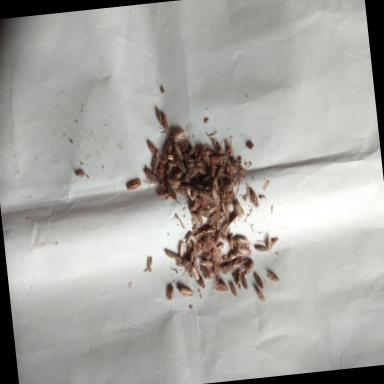pbw: (191, 264, 205, 288), (231, 152, 245, 176), (253, 281, 267, 303), (143, 166, 159, 184), (266, 232, 280, 252), (249, 188, 261, 210), (192, 186, 210, 200), (162, 150, 180, 164), (233, 198, 244, 220), (215, 160, 226, 182), (160, 110, 171, 132), (178, 283, 194, 298), (253, 270, 265, 290), (146, 138, 160, 155), (174, 156, 187, 174), (153, 104, 164, 125), (166, 183, 178, 202), (210, 185, 222, 204), (126, 179, 145, 191), (226, 278, 238, 297), (198, 264, 212, 280), (235, 234, 251, 248), (220, 259, 234, 275), (152, 153, 163, 173), (212, 138, 224, 156), (186, 246, 196, 267), (166, 173, 180, 188), (237, 245, 253, 258), (244, 260, 256, 277), (208, 162, 219, 180), (254, 240, 268, 254), (172, 142, 184, 158), (186, 166, 202, 178), (164, 284, 176, 300), (211, 255, 221, 274), (206, 178, 219, 192), (199, 256, 214, 268), (198, 142, 209, 158), (226, 164, 237, 180), (164, 138, 174, 155), (145, 255, 155, 272), (202, 151, 212, 168), (267, 270, 280, 283), (188, 200, 202, 212), (196, 168, 210, 180), (232, 254, 246, 266), (214, 280, 228, 292), (172, 127, 186, 139), (184, 152, 195, 167), (233, 270, 243, 286), (181, 138, 191, 154), (202, 234, 212, 250), (213, 152, 226, 164), (198, 203, 210, 216), (226, 139, 234, 158), (199, 250, 214, 260), (184, 229, 194, 244), (167, 158, 179, 170), (204, 225, 216, 237), (158, 188, 170, 200), (158, 172, 166, 190), (220, 200, 228, 218), (176, 258, 190, 268), (182, 172, 192, 186), (184, 186, 194, 200), (206, 240, 216, 254), (242, 269, 249, 289), (192, 228, 204, 239), (210, 212, 220, 225), (173, 168, 186, 178), (212, 229, 223, 240), (209, 202, 221, 212), (228, 213, 238, 225), (196, 181, 208, 191), (191, 213, 201, 224), (179, 242, 186, 257), (228, 250, 238, 260), (192, 157, 203, 166), (216, 240, 224, 252), (190, 145, 196, 155)
